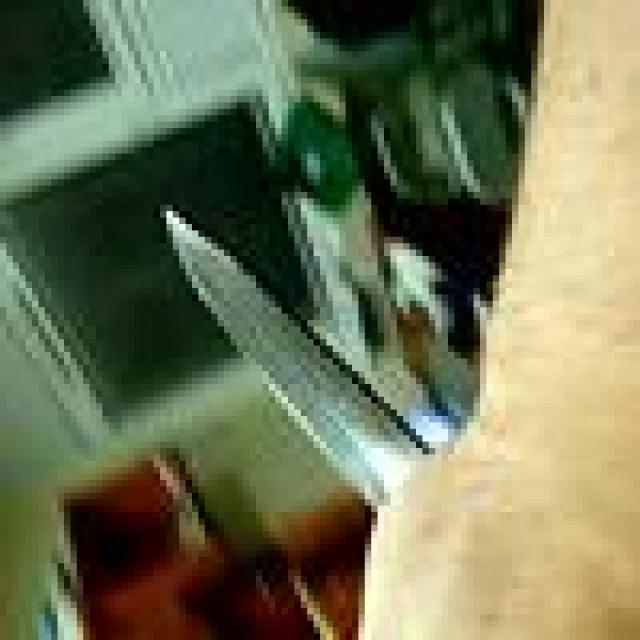knife: (159, 214, 403, 510)
